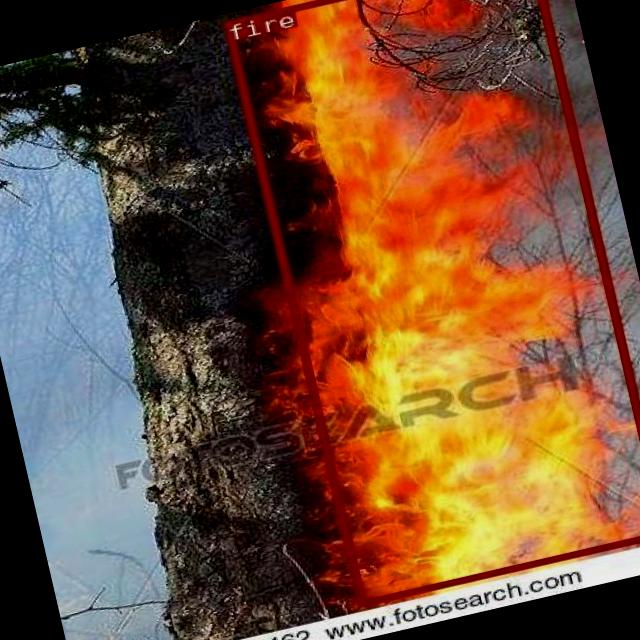fire: (222, 0, 640, 605)
